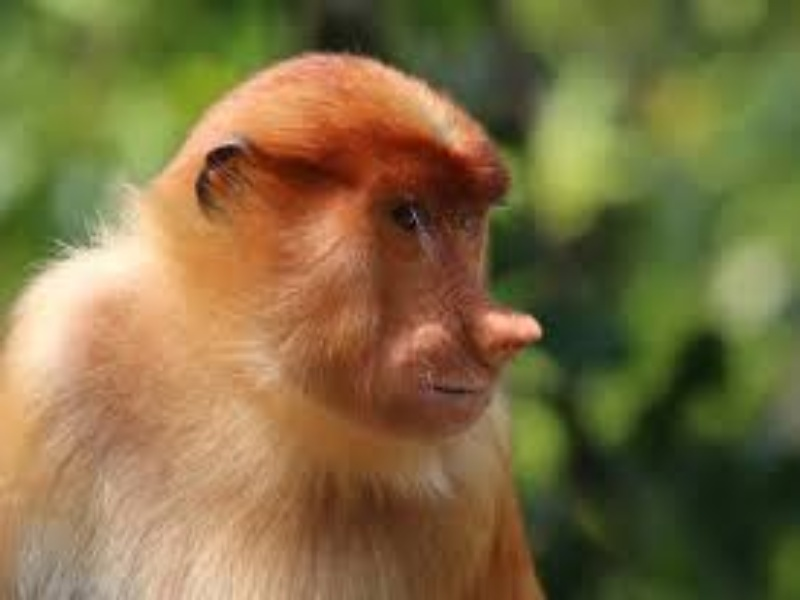monkey: (4, 35, 577, 597)
